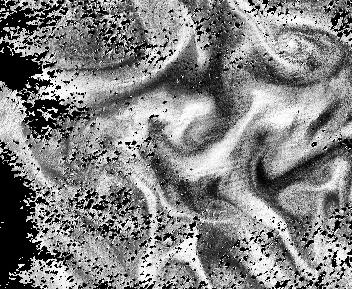CE: (270, 24, 344, 81)
